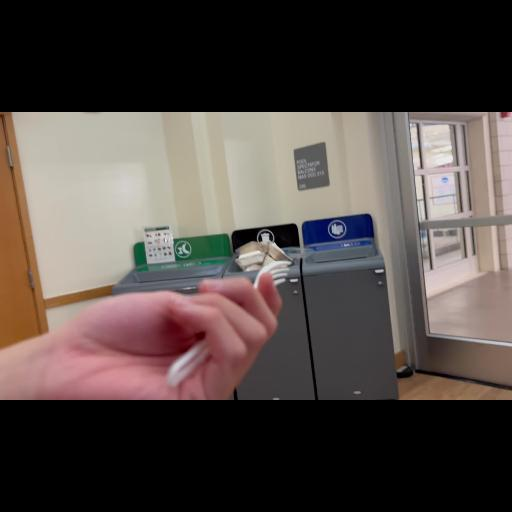utensil: (162, 257, 300, 383)
